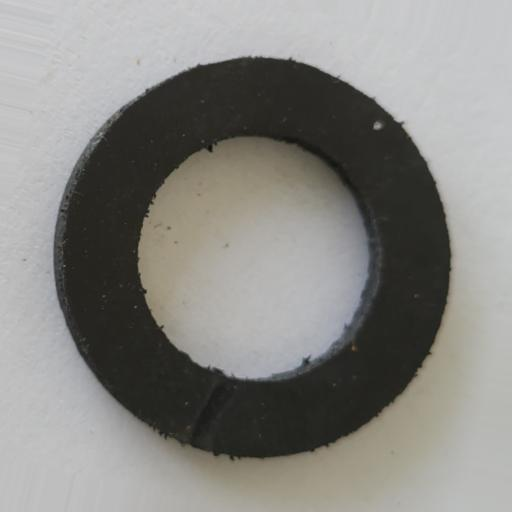defect: (186, 378, 235, 446)
